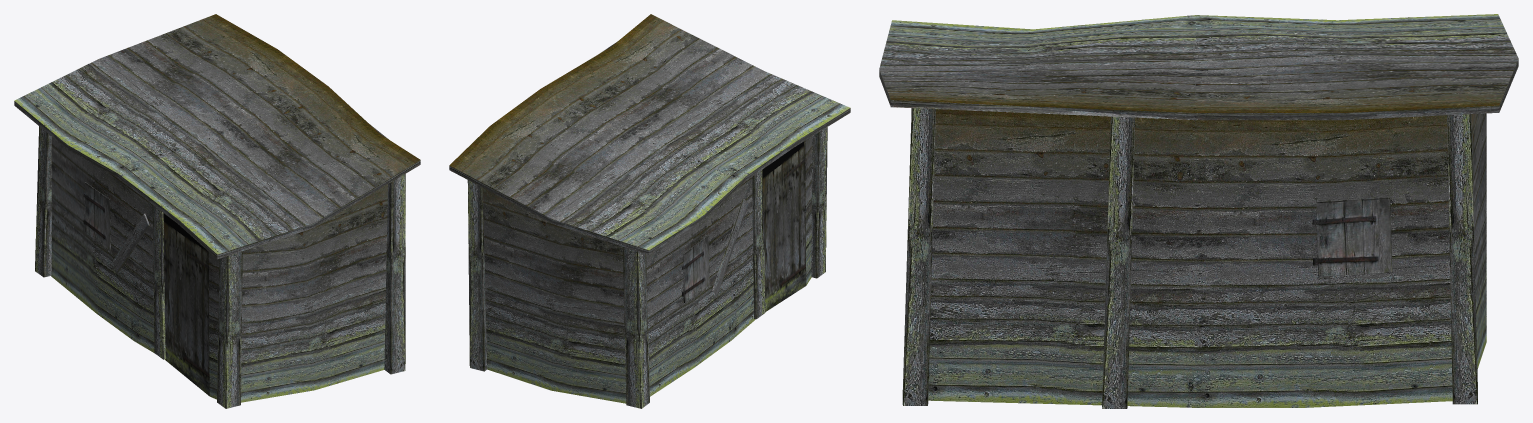
Rendered from barn01_LOD03.fbx.
The picture shows the model from 3 angles, left to right: view 1: azimuth 30°, elevation 25°; view 2: azimuth 150°, elevation 25°; view 3: azimuth 270°, elevation 25°; orthographic projection. The views are drawn at different scales.
Parts seen in each view (by area): view 1: Mesh Object; view 2: Mesh Object; view 3: Mesh Object.
Boxes of the visible parts, x1,y1,x2,y2 form: Mesh Object: (14, 14, 420, 408); Mesh Object: (449, 14, 850, 408); Mesh Object: (879, 14, 1518, 408).
Bounding box in the file's own units: 2.29 × 2.17 × 4.
